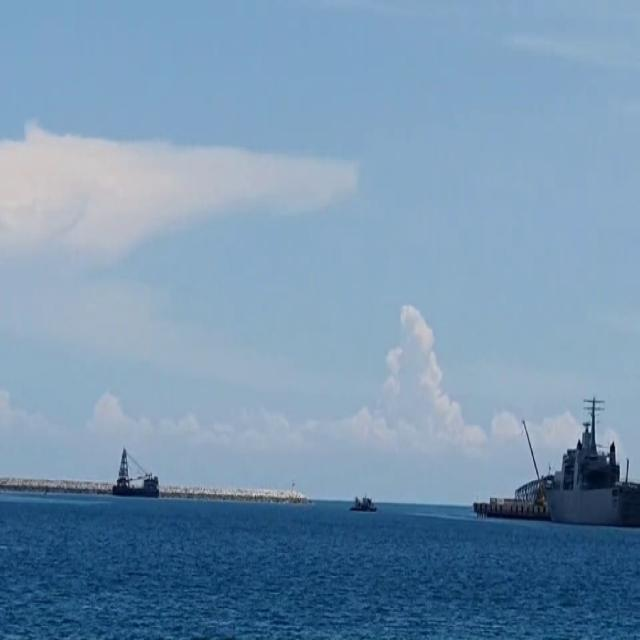civilianship: (114, 433, 172, 513)
warship1: (455, 394, 640, 527)
